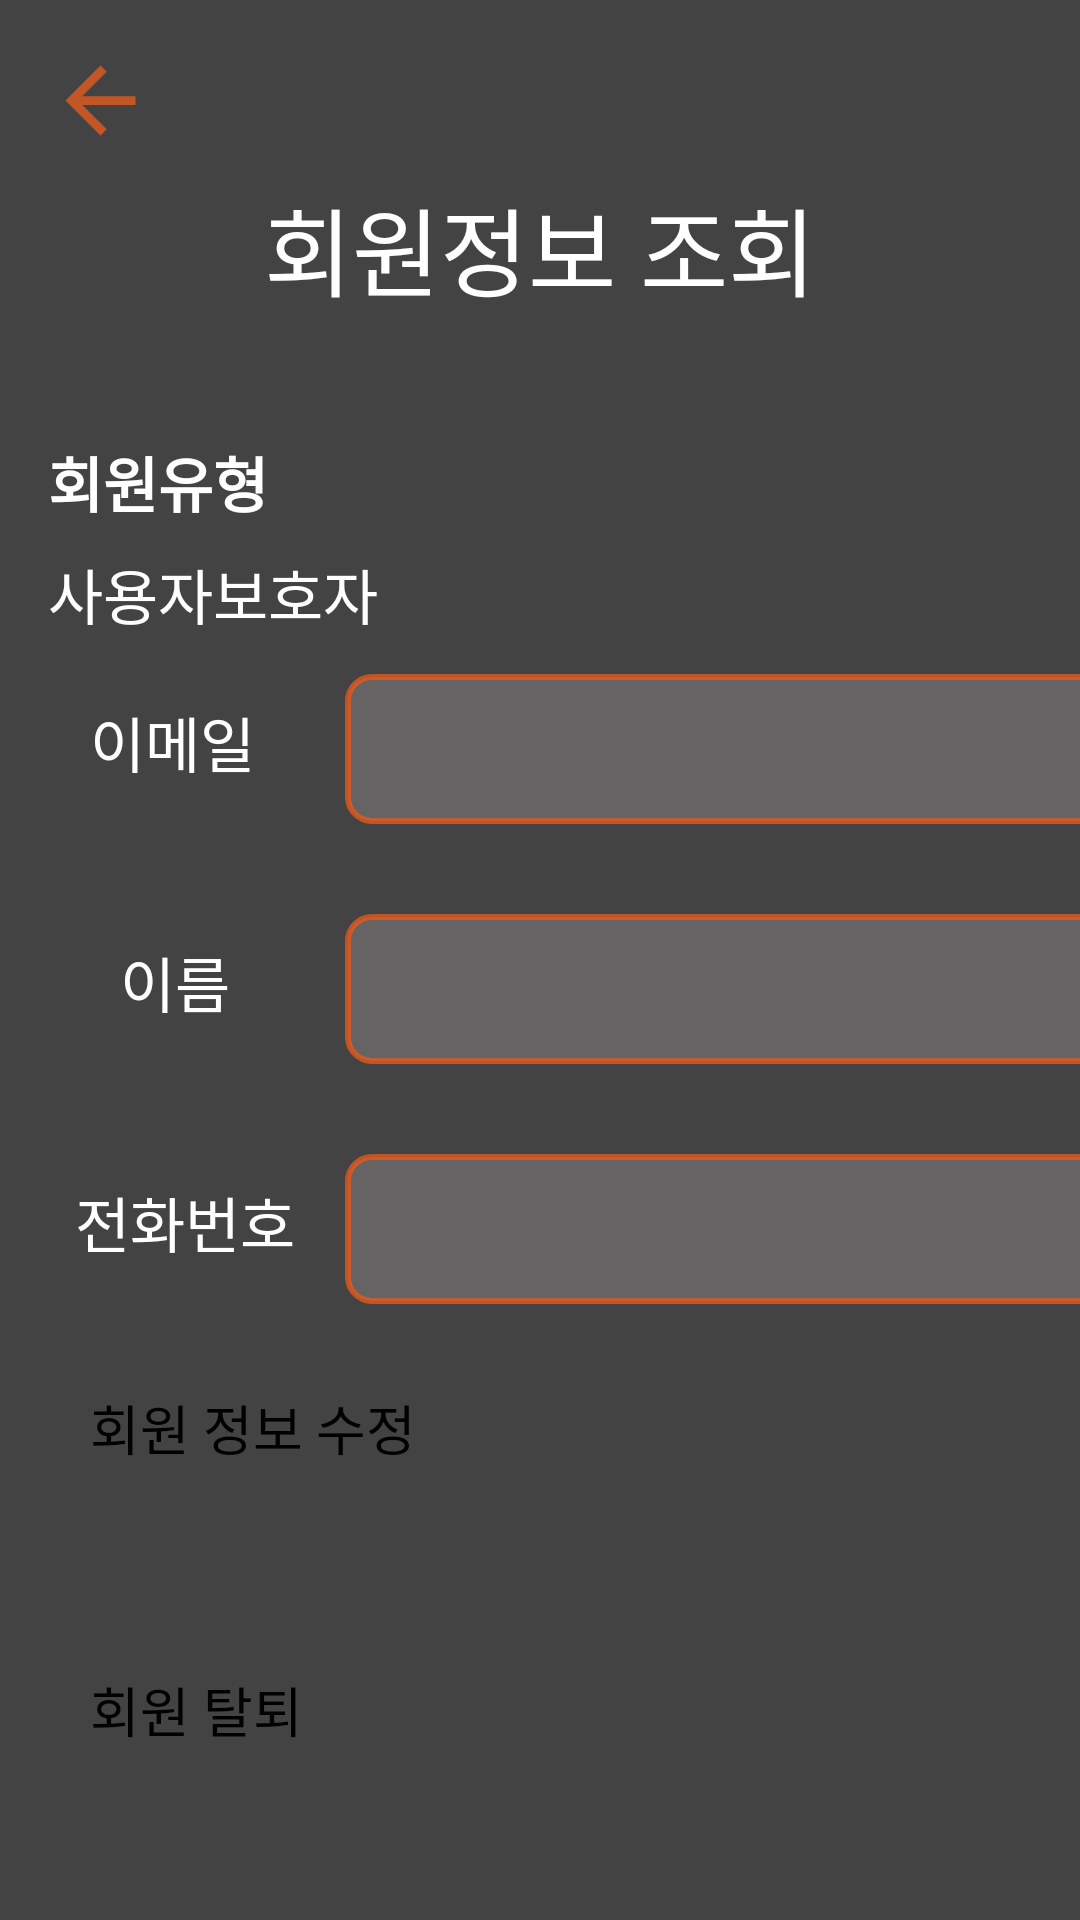

Where to tap for icons on this 1080*1920 app screen, as (x,y):
뒤로가기 버튼입니다: (100,100)
